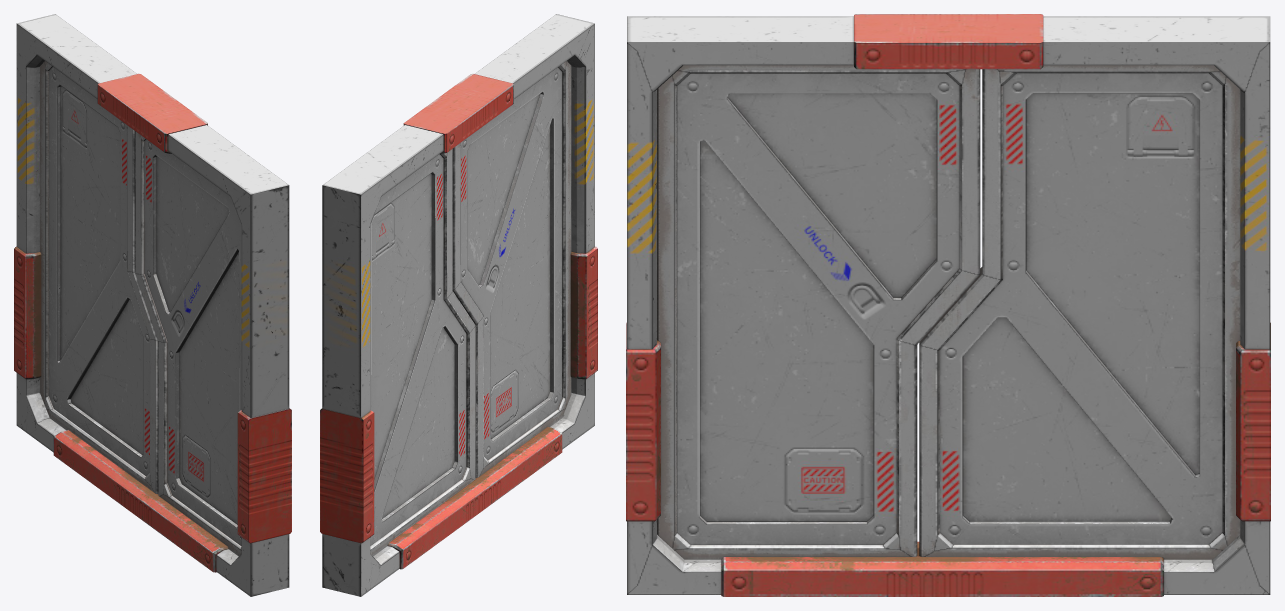
File: door_1.fbx
3 views of the same model, side by side, from view 1: azimuth 30°, elevation 25°; view 2: azimuth 150°, elevation 25°; view 3: azimuth 270°, elevation 25° (orthographic). The views are drawn at different scales.
Visible parts, largest first — view 1: Box002, Object006, Object003; view 2: Box002, Object003, Object006; view 3: Object003, Object006, Box002.
Part boxes in pixels (<box>): Box002: <box>14,14,291,596</box>; Object006: <box>40,61,158,493</box>; Object003: <box>135,131,241,556</box>; Box002: <box>320,14,597,596</box>; Object003: <box>452,61,571,477</box>; Object006: <box>370,149,475,556</box>; Object003: <box>657,65,980,559</box>; Object006: <box>919,65,1240,559</box>; Box002: <box>626,14,1270,596</box>.
Bounding box in the file's own units: 0.2993 × 2.67 × 2.81.
1 material, 1 textured.
